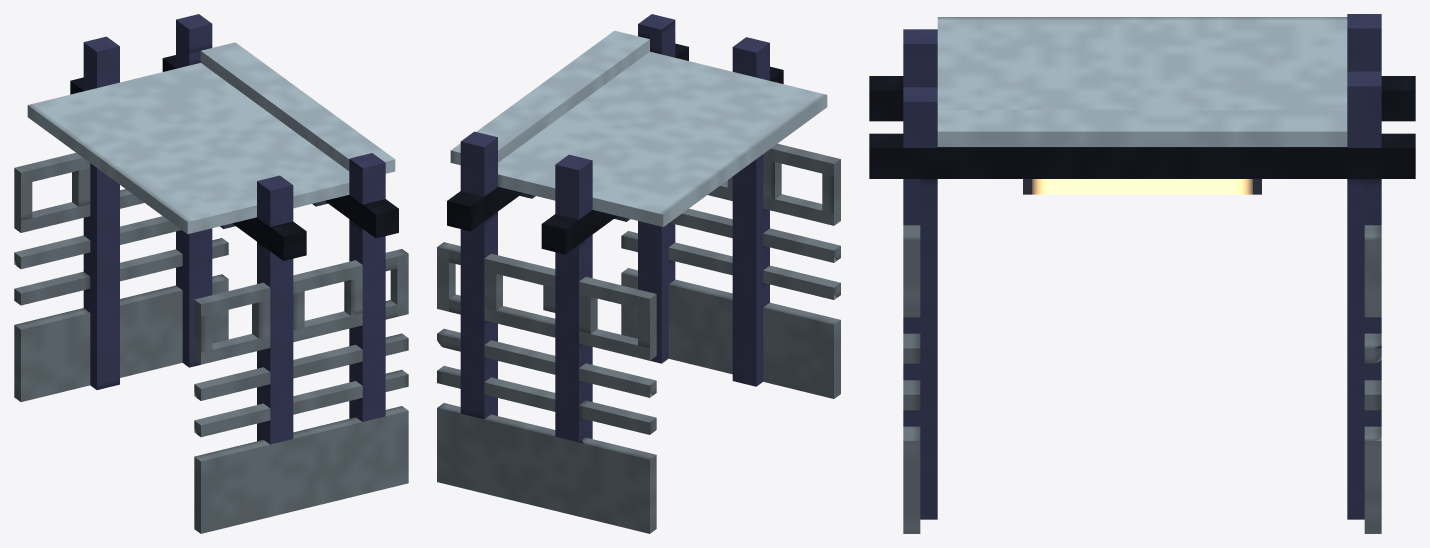
Rendered from przedluzka_metro.dae.
The picture shows the model from 3 angles, left to right: view 1: azimuth 30°, elevation 25°; view 2: azimuth 150°, elevation 25°; view 3: azimuth 270°, elevation 25°; orthographic projection. The views are drawn at different scales.
Parts seen in each view (by area): view 1: Content; view 2: Content; view 3: Content.
Part boxes in pixels (x1=…): Content: x1=14, y1=14, x2=408, y2=533; Content: x1=437, y1=14, x2=840, y2=533; Content: x1=869, y1=14, x2=1415, y2=533.
Bounding box in the file's own units: 18 × 28 × 32.
1 material, 1 textured.
